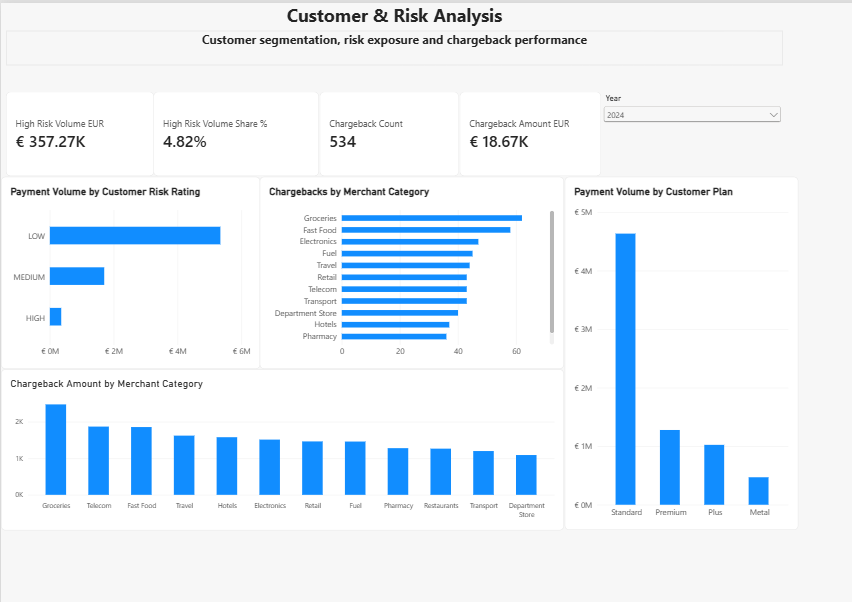

The dashboard page shown, as its layout file describes it:
{"tool":"powerbi","page":{"name":"Customer & Risk","canvas":[1920,1080],"ordinal":3},"visuals":[{"type":"textbox","box":[9.5,0,1381.1,48.6],"z":0},{"type":"textbox","box":[10,290,280,280],"z":1000},{"type":"textbox","box":[9.2,49.2,1381.5,61.5],"z":2000},{"type":"cardVisual","fields":{"Data":["revolut_finance transactions.High Risk Volume EUR"]},"box":[8.7,158.7,263.4,150],"z":3000},{"type":"cardVisual","fields":{"Data":["revolut_finance transactions.High Risk Volume Share %"]},"box":[272.1,158.7,294.8,150],"z":4000},{"type":"cardVisual","fields":{"Data":["revolut_finance chargebacks.Chargeback Count"]},"box":[566.9,158.7,247.7,150],"z":5000},{"type":"cardVisual","fields":{"Data":["revolut_finance chargebacks.Chargeback Amount EUR"]},"box":[814.5,158.7,251.2,150],"z":6000},{"type":"clusteredBarChart","title":"Payment Volume by Customer Risk Rating","fields":{"Category":["revolut_finance customers.risk_rating"],"Y":["Date.Payment Volume EUR"]},"box":[0,308.7,460.5,341.9],"z":7000},{"type":"clusteredBarChart","title":"Chargebacks by Merchant Category","fields":{"Category":["revolut_finance merchants.merchant_category"],"Y":["revolut_finance chargebacks.Chargeback Count"]},"box":[460.5,308.7,540.7,341.9],"z":8000},{"type":"clusteredColumnChart","title":"Chargeback Amount by Merchant Category","fields":{"Category":["revolut_finance merchants.merchant_category"],"Y":["revolut_finance chargebacks.Chargeback Amount EUR"]},"box":[0,650.6,1001.2,286],"z":9000},{"type":"clusteredColumnChart","title":"Payment Volume by Customer Plan","fields":{"Category":["revolut_finance customers.plan_type"],"Y":["Date.Payment Volume EUR"]},"box":[1001.2,308.7,415.1,627.9],"z":10000},{"type":"slicer","fields":{"Values":["Date.Year"]},"box":[1066,159,325,150],"z":11000}]}

Visuals, with their boxes on the page's 1920x1080 design canvas (x1, y1, x2, y2). These are canvas units, not pixel positions in the 852x602 screenshot, which may show the page scaled, cropped or inside an application window:
textbox: (10, 0, 1391, 49)
textbox: (10, 290, 290, 570)
textbox: (9, 49, 1391, 111)
cardVisual - revolut_finance transactions.High Risk Volume EUR: (9, 159, 272, 309)
cardVisual - revolut_finance transactions.High Risk Volume Share %: (272, 159, 567, 309)
cardVisual - revolut_finance chargebacks.Chargeback Count: (567, 159, 815, 309)
cardVisual - revolut_finance chargebacks.Chargeback Amount EUR: (814, 159, 1066, 309)
"Payment Volume by Customer Risk Rating" clusteredBarChart: (0, 309, 460, 651)
"Chargebacks by Merchant Category" clusteredBarChart: (460, 309, 1001, 651)
"Chargeback Amount by Merchant Category" clusteredColumnChart: (0, 651, 1001, 937)
"Payment Volume by Customer Plan" clusteredColumnChart: (1001, 309, 1416, 937)
slicer - Date.Year: (1066, 159, 1391, 309)
